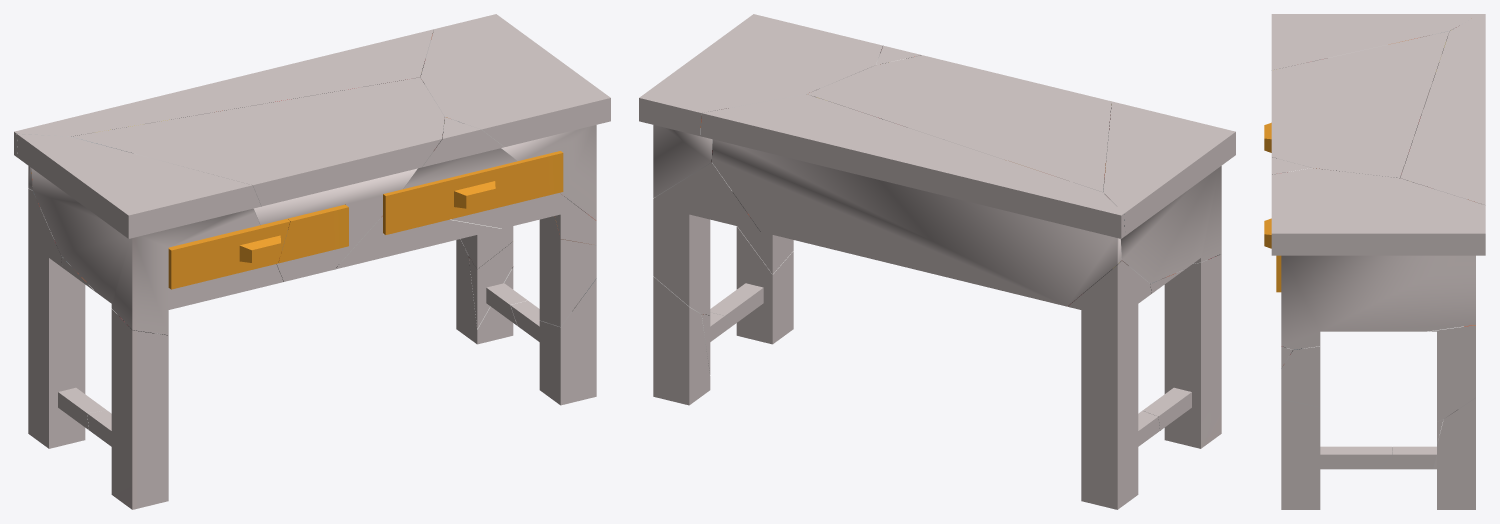
The model's file is Bantrangdiem_DEST.fbx.
3 views of the same model, side by side, from view 1: azimuth 30°, elevation 25°; view 2: azimuth 150°, elevation 25°; view 3: azimuth 270°, elevation 25° (orthographic). The views are drawn at different scales.
Parts seen in each view (by area): view 1: model:bedSingle:sideTableDrawers:sideTableDrawers_cell.008, model:bedSingle:sideTableDrawers:sideTableDrawers_cell.006, model:bedSingle:sideTableDrawers:sideTableDrawers_cell.009, model:bedSingle:sideTableDrawers:sideTableDrawers_cell.005, model:bedSingle:sideTableDrawers:sideTableDrawers_cell.001, model:bedSingle:sideTableDrawers:sideTableDrawers_cell.002, model:bedSingle:sideTableDrawers:sideTableDrawers_cell.004, model:bedSingle:sideTableDrawers:sideTableDrawers.002_cell.0, model:bedSingle:sideTableDrawers:sideTableDrawers_cell, model:bedSingle:sideTableDrawers:sideTableDrawers.001_cell.0, model:bedSingle:sideTableDrawers:sideTableDrawers_cell.007, model:bedSingle:sideTableDrawers:sideTableDrawers_cell.012 (+3 smaller); view 2: model:bedSingle:sideTableDrawers:sideTableDrawers_cell.005, model:bedSingle:sideTableDrawers:sideTableDrawers_cell.008, model:bedSingle:sideTableDrawers:sideTableDrawers_cell.009, model:bedSingle:sideTableDrawers:sideTableDrawers_cell.006, model:bedSingle:sideTableDrawers:sideTableDrawers_cell.001, model:bedSingle:sideTableDrawers:sideTableDrawers_cell.002, model:bedSingle:sideTableDrawers:sideTableDrawers_cell.004, model:bedSingle:sideTableDrawers:sideTableDrawers_cell.003, model:bedSingle:sideTableDrawers:sideTableDrawers_cell, model:bedSingle:sideTableDrawers:sideTableDrawers_cell.010; view 3: model:bedSingle:sideTableDrawers:sideTableDrawers_cell.009, model:bedSingle:sideTableDrawers:sideTableDrawers_cell.008, model:bedSingle:sideTableDrawers:sideTableDrawers_cell.005, model:bedSingle:sideTableDrawers:sideTableDrawers_cell.006, model:bedSingle:sideTableDrawers:sideTableDrawers_cell, model:bedSingle:sideTableDrawers:sideTableDrawers_cell.004, model:bedSingle:sideTableDrawers:sideTableDrawers_cell.003, model:bedSingle:sideTableDrawers:sideTableDrawers_cell.010, model:bedSingle:sideTableDrawers:sideTableDrawers.002_cell.0, model:bedSingle:sideTableDrawers:sideTableDrawers_cell.007.
Part boxes in pixels (x1,y1,x2,y2): model:bedSingle:sideTableDrawers:sideTableDrawers_cell.008: (71, 77, 444, 281); model:bedSingle:sideTableDrawers:sideTableDrawers_cell.006: (17, 134, 283, 335); model:bedSingle:sideTableDrawers:sideTableDrawers_cell.009: (420, 14, 610, 220); model:bedSingle:sideTableDrawers:sideTableDrawers_cell.005: (14, 29, 433, 190); model:bedSingle:sideTableDrawers:sideTableDrawers_cell.001: (28, 189, 106, 448); model:bedSingle:sideTableDrawers:sideTableDrawers_cell.002: (87, 309, 168, 509); model:bedSingle:sideTableDrawers:sideTableDrawers_cell.004: (335, 216, 596, 326); model:bedSingle:sideTableDrawers:sideTableDrawers.002_cell.0: (383, 151, 563, 234); model:bedSingle:sideTableDrawers:sideTableDrawers_cell: (510, 278, 596, 405); model:bedSingle:sideTableDrawers:sideTableDrawers.001_cell.0: (168, 219, 290, 289); model:bedSingle:sideTableDrawers:sideTableDrawers_cell.007: (403, 117, 517, 189); model:bedSingle:sideTableDrawers:sideTableDrawers_cell.012: (450, 193, 596, 244); model:bedSingle:sideTableDrawers:sideTableDrawers_cell.005: (700, 94, 1125, 306); model:bedSingle:sideTableDrawers:sideTableDrawers_cell.008: (807, 55, 1111, 192); model:bedSingle:sideTableDrawers:sideTableDrawers_cell.009: (639, 14, 882, 197); model:bedSingle:sideTableDrawers:sideTableDrawers_cell.006: (1103, 101, 1235, 283); model:bedSingle:sideTableDrawers:sideTableDrawers_cell.001: (1067, 261, 1159, 509); model:bedSingle:sideTableDrawers:sideTableDrawers_cell.002: (1142, 254, 1221, 448); model:bedSingle:sideTableDrawers:sideTableDrawers_cell.004: (653, 162, 793, 314); model:bedSingle:sideTableDrawers:sideTableDrawers_cell.003: (653, 276, 710, 405); model:bedSingle:sideTableDrawers:sideTableDrawers_cell: (710, 226, 793, 344); model:bedSingle:sideTableDrawers:sideTableDrawers_cell.010: (701, 312, 731, 374); model:bedSingle:sideTableDrawers:sideTableDrawers_cell.009: (1271, 168, 1485, 349); model:bedSingle:sideTableDrawers:sideTableDrawers_cell.008: (1271, 31, 1449, 178); model:bedSingle:sideTableDrawers:sideTableDrawers_cell.005: (1400, 14, 1485, 205); model:bedSingle:sideTableDrawers:sideTableDrawers_cell.006: (1271, 14, 1479, 70); model:bedSingle:sideTableDrawers:sideTableDrawers_cell: (1281, 399, 1392, 509); model:bedSingle:sideTableDrawers:sideTableDrawers_cell.004: (1281, 325, 1475, 421); model:bedSingle:sideTableDrawers:sideTableDrawers_cell.003: (1433, 398, 1475, 509); model:bedSingle:sideTableDrawers:sideTableDrawers_cell.010: (1379, 419, 1443, 469); model:bedSingle:sideTableDrawers:sideTableDrawers.002_cell.0: (1264, 218, 1281, 292); model:bedSingle:sideTableDrawers:sideTableDrawers_cell.007: (1271, 157, 1311, 174).
Bounding box in the file's own units: 4.9 × 2.92 × 2.09.
